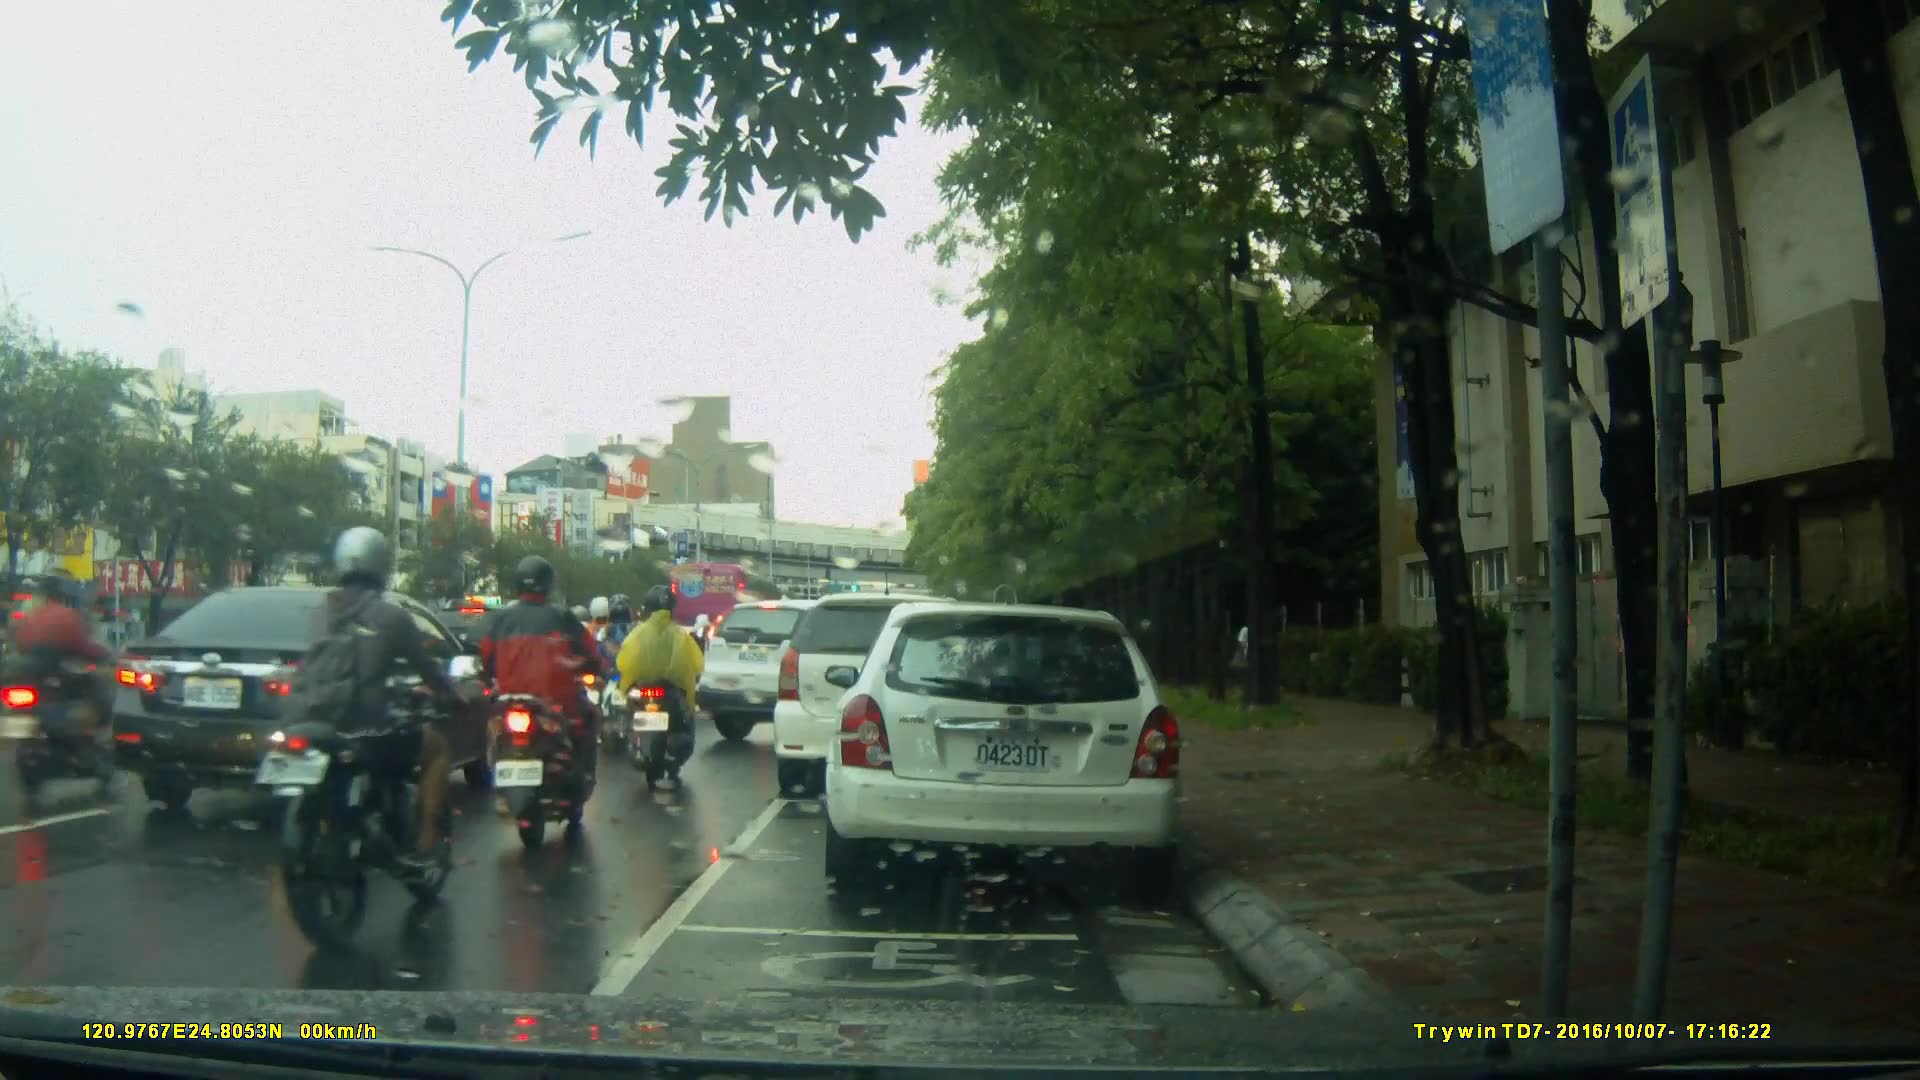rider: (244, 526, 490, 968), (489, 555, 602, 843), (5, 579, 118, 786), (614, 591, 710, 791), (599, 592, 659, 755), (571, 594, 628, 733)
vehicle: (835, 594, 1194, 898), (107, 583, 515, 821), (776, 590, 1026, 784), (693, 595, 918, 746), (667, 562, 779, 643)
